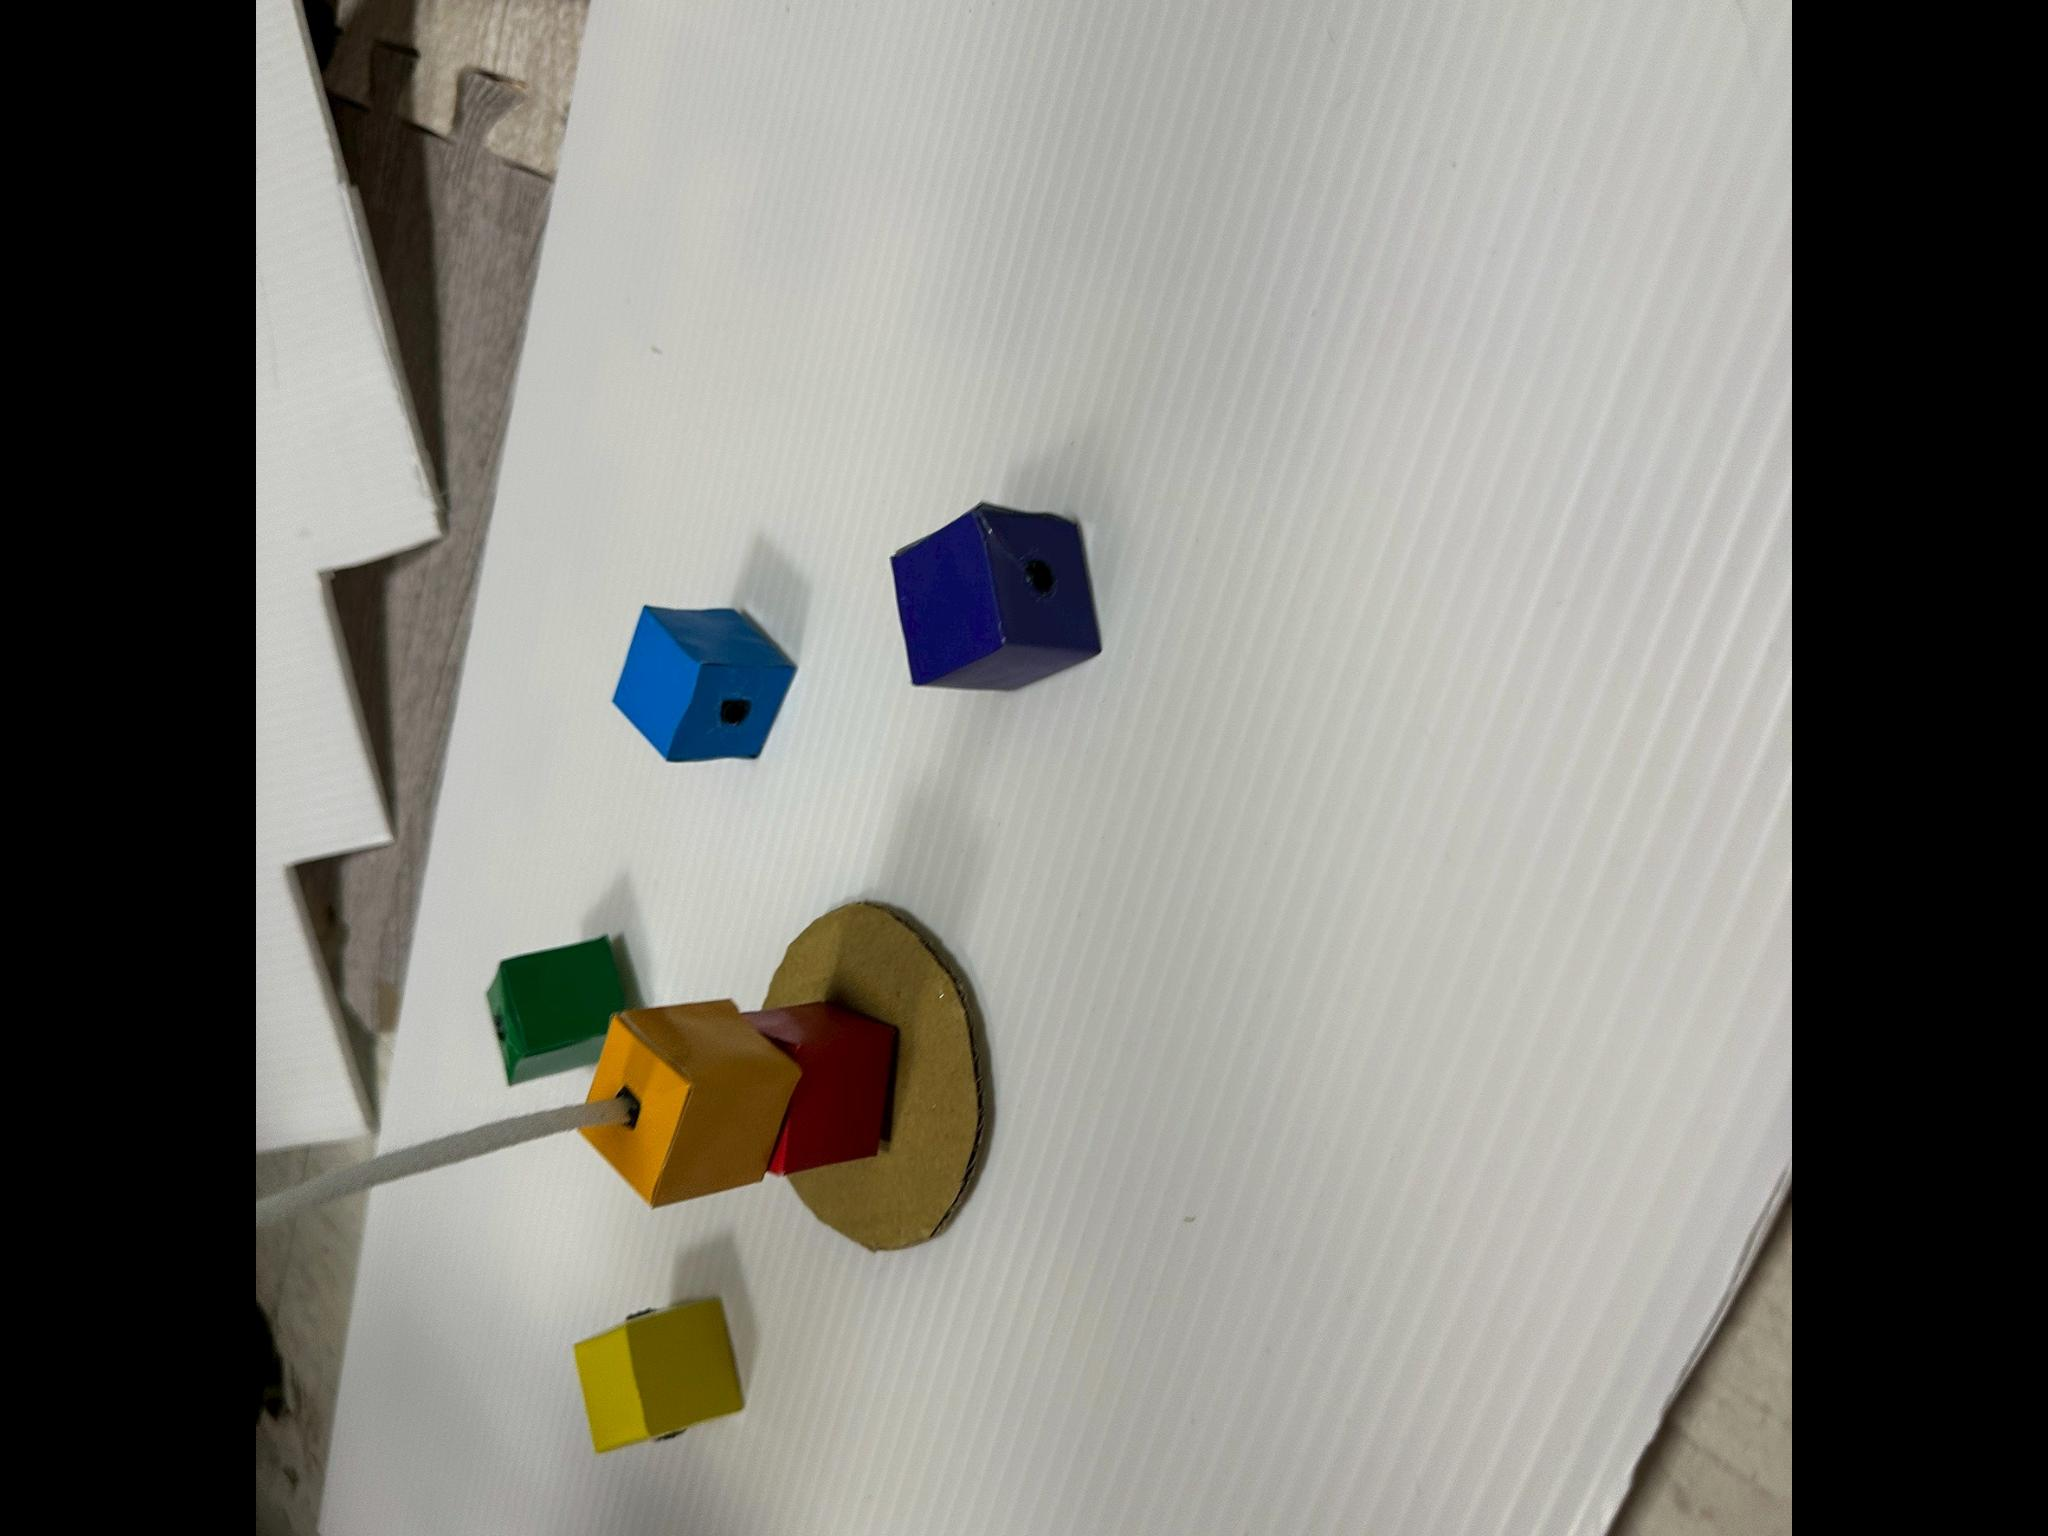base: (581, 999, 800, 1205), (893, 505, 1101, 689), (613, 607, 795, 760), (743, 1000, 897, 1175), (574, 1299, 742, 1452), (487, 937, 629, 1083)
